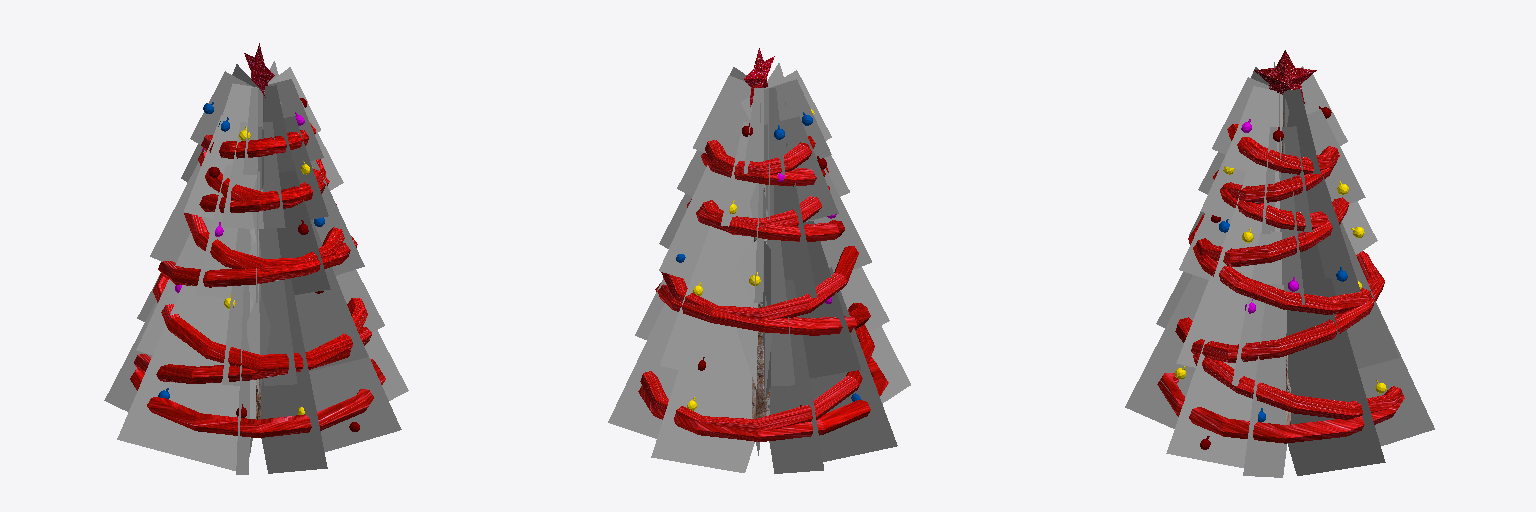
The picture shows the model from 3 angles: view 1: azimuth 30°, elevation 25°; view 2: azimuth 150°, elevation 25°; view 3: azimuth 270°, elevation 25°; orthographic projection.
Parts seen in each view (by area): view 1: xmastree; view 2: xmastree; view 3: xmastree.
Boxes of the visible parts, box(x1,y1,x2,y2) form: xmastree: box(104, 43, 408, 474); xmastree: box(608, 48, 910, 473); xmastree: box(1125, 50, 1434, 477).
Size of the model in its own units: 4.75 by 7.06 by 4.74.
Materials: 8 (7 with a texture image).